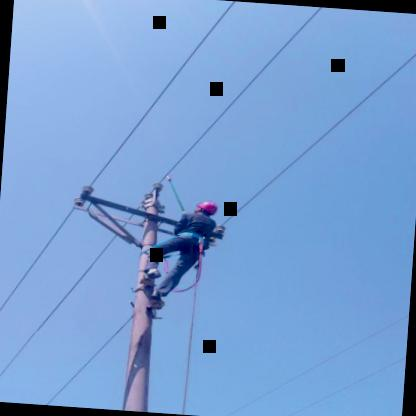helmet: (192, 197, 221, 221)
